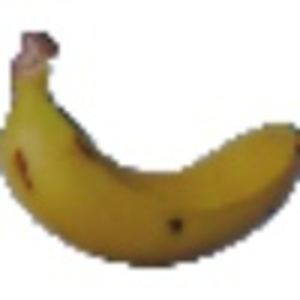banana: (5, 22, 297, 270)
